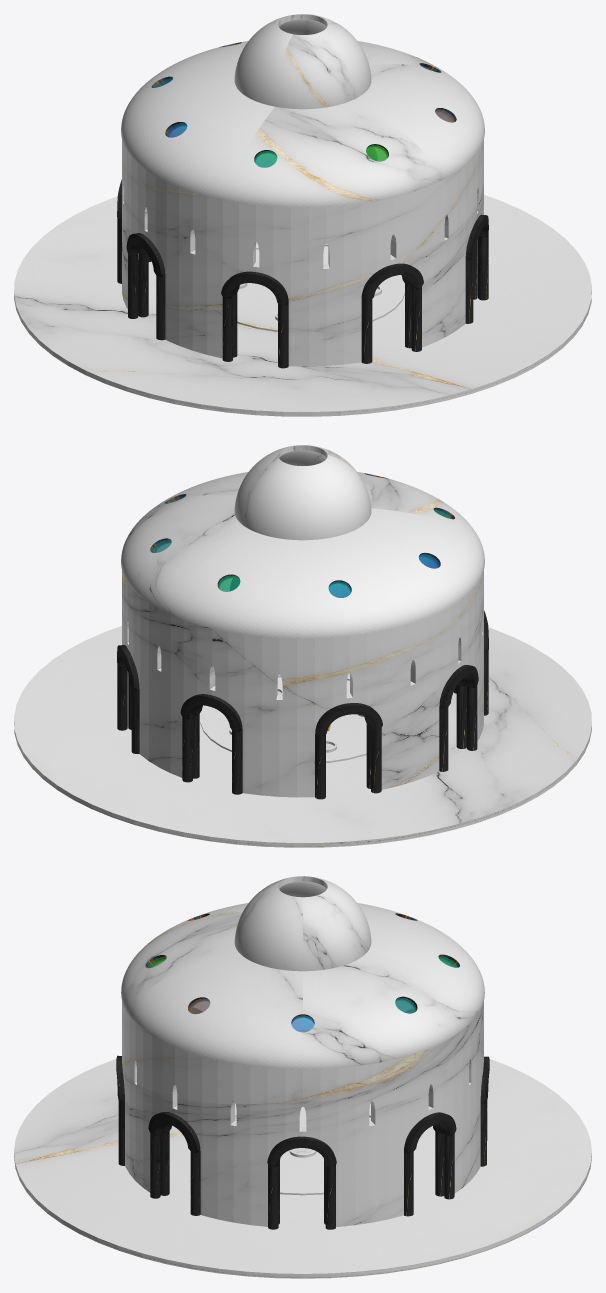
Rendered from CV_Heart_Cupola.glb.
3 renders of one model, top to bottom at view 1: azimuth 30°, elevation 25°; view 2: azimuth 150°, elevation 25°; view 3: azimuth 270°, elevation 25°, orthographic.
Parts seen in each view (by area): view 1: Pavimento, Parete. Con porte, Cupola_forata, Colonne, Cupletta Esterna, Cupola Finestre; view 2: Pavimento, Parete. Con porte, Cupola_forata, Colonne, Cupletta Esterna, Cupola Finestre; view 3: Pavimento, Parete. Con porte, Cupola_forata, Cupletta Esterna, Colonne, Cupola Finestre.
Boxes of the visible parts, left/top/right/bottom form: Pavimento: left=14, top=195, right=591, bottom=416; Parete. Con porte: left=122, top=113, right=483, bottom=366; Cupola_forata: left=121, top=41, right=484, bottom=207; Colonne: left=117, top=148, right=488, bottom=368; Cupletta Esterna: left=234, top=14, right=371, bottom=109; Cupola Finestre: left=154, top=65, right=454, bottom=167; Pavimento: left=14, top=626, right=591, bottom=847; Parete. Con porte: left=122, top=543, right=483, bottom=797; Cupola_forata: left=121, top=472, right=484, bottom=638; Colonne: left=117, top=578, right=488, bottom=799; Cupletta Esterna: left=234, top=445, right=371, bottom=540; Cupola Finestre: left=152, top=496, right=451, bottom=597; Pavimento: left=14, top=1030, right=591, bottom=1278; Parete. Con porte: left=122, top=960, right=483, bottom=1226; Cupola_forata: left=121, top=903, right=484, bottom=1069; Cupletta Esterna: left=234, top=876, right=371, bottom=971; Colonne: left=116, top=1008, right=489, bottom=1229; Cupola Finestre: left=147, top=956, right=457, bottom=1032.
Bounding box in the file's own units: 12.41 × 6.5 × 12.41.
8 materials, 4 textured.
